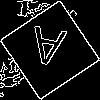A: (25, 25, 67, 77)
